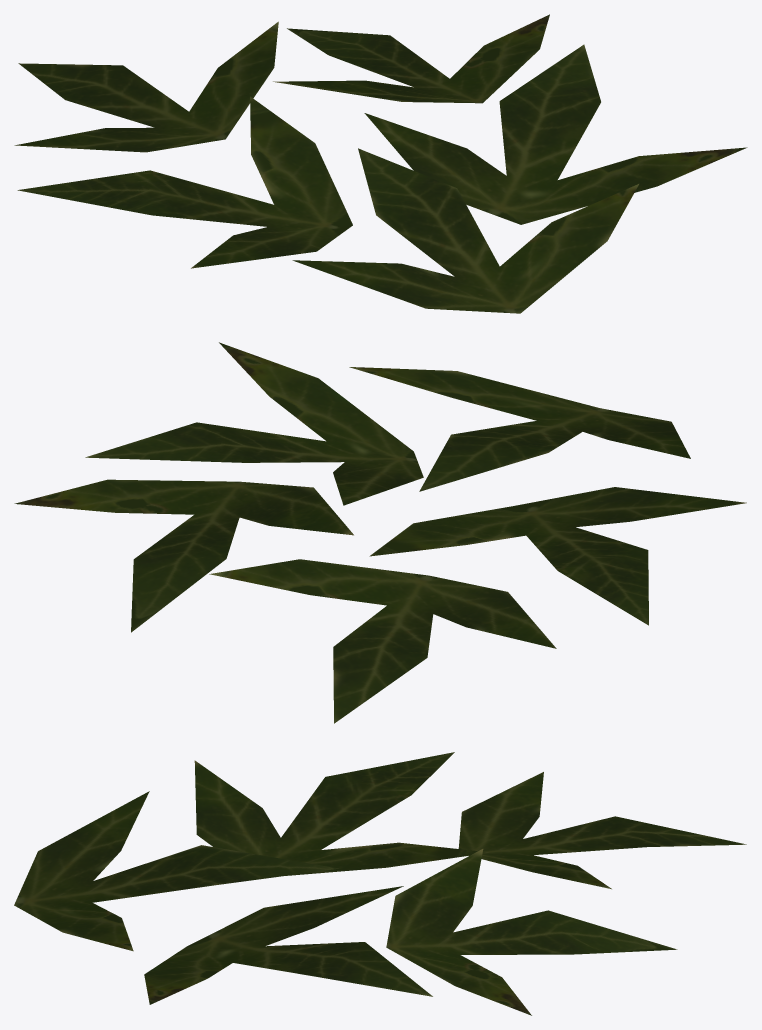
The model's file is SM_Tree_And_Bushes.fbx_SM_Bush_8.fbx.
3 renders of one model, top to bottom at view 1: azimuth 30°, elevation 25°; view 2: azimuth 150°, elevation 25°; view 3: azimuth 270°, elevation 25°, orthographic. The views are drawn at different scales.
Parts seen in each view (by area): view 1: SM_Tree_18; view 2: SM_Tree_18; view 3: SM_Tree_18.
Boxes of the visible parts, x1,y1,x2,y2 form: SM_Tree_18: (14, 14, 747, 313); SM_Tree_18: (14, 342, 746, 723); SM_Tree_18: (14, 752, 746, 1015).
Size of the model in its own units: 2755 by 257 by 3155.
